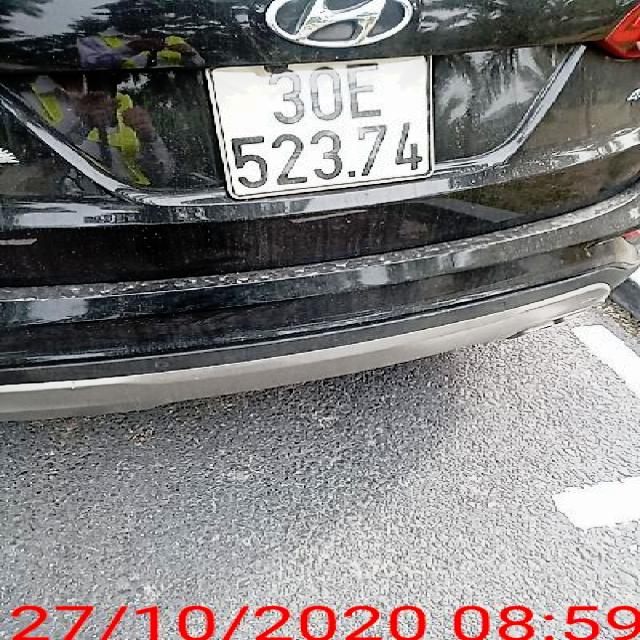license_plate: (212, 60, 435, 200)
